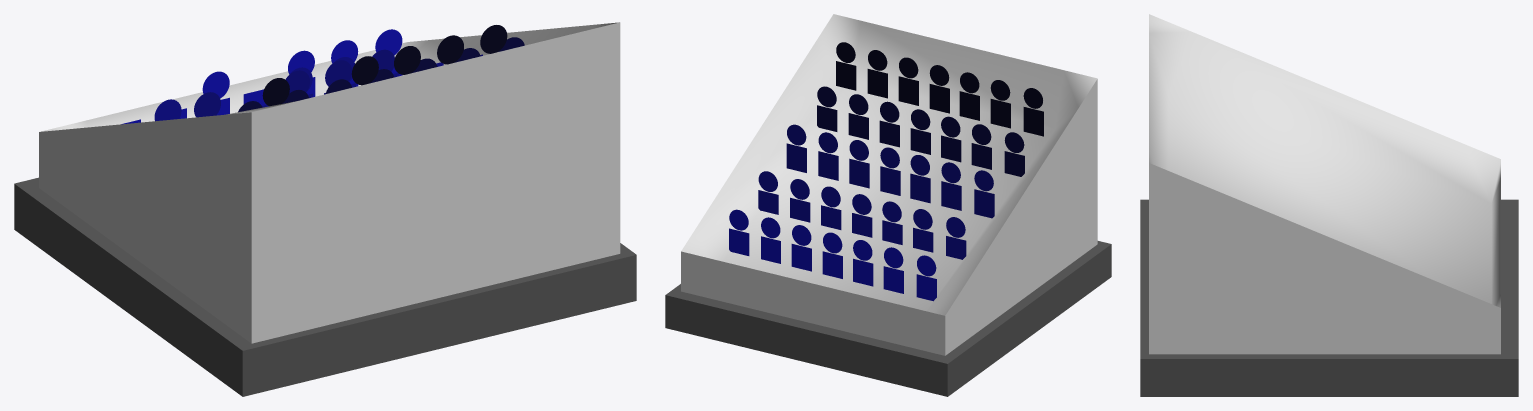
The model's file is Grada.obj.
3 renders of one model, left to right at view 1: azimuth 30°, elevation 25°; view 2: azimuth 150°, elevation 25°; view 3: azimuth 270°, elevation 25°, orthographic. The views are drawn at different scales.
Parts seen in each view (by area): view 1: Box001, Box002, Circle031, Circle029, Circle032, Circle035, Circle033, Circle019; view 2: Box001, Box002, Rectangle017, Rectangle020, Rectangle031, Rectangle034, Rectangle035, Rectangle016, Rectangle021, Rectangle030, Rectangle019, Rectangle018 (+25 smaller); view 3: Box001, Box002.
Boxes of the visible parts, x1,y1,x2,y2 form: Box001: (39,22,620,343); Box002: (14,177,636,396); Circle031: (437,35,463,64); Circle029: (351,56,378,85); Circle032: (394,46,420,74); Circle035: (480,25,507,53); Circle033: (262,78,289,106); Circle019: (194,92,220,117); Box001: (681,14,1097,355); Box002: (665,241,1111,396); Rectangle017: (910,173,930,203); Rectangle020: (786,143,806,172); Rectangle031: (959,91,979,120); Rectangle034: (836,61,856,90); Rectangle035: (867,69,887,98); Rectangle016: (941,181,961,210); Rectangle021: (818,151,838,180); Rectangle030: (990,99,1010,128); Rectangle019: (880,166,900,195); Rectangle018: (849,158,869,188); Box001: (1149,14,1500,354); Box002: (1140,199,1518,396).
Size of the model in its own units: 32.07 by 21.58 by 32.23.
